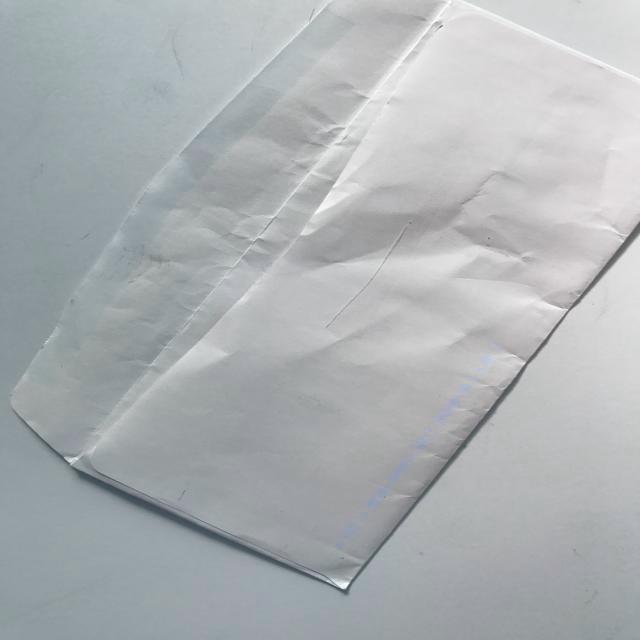paper: (11, 2, 640, 612)
